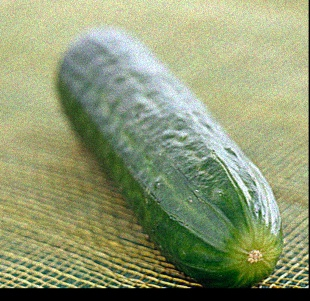cucumber: (55, 27, 282, 287)
